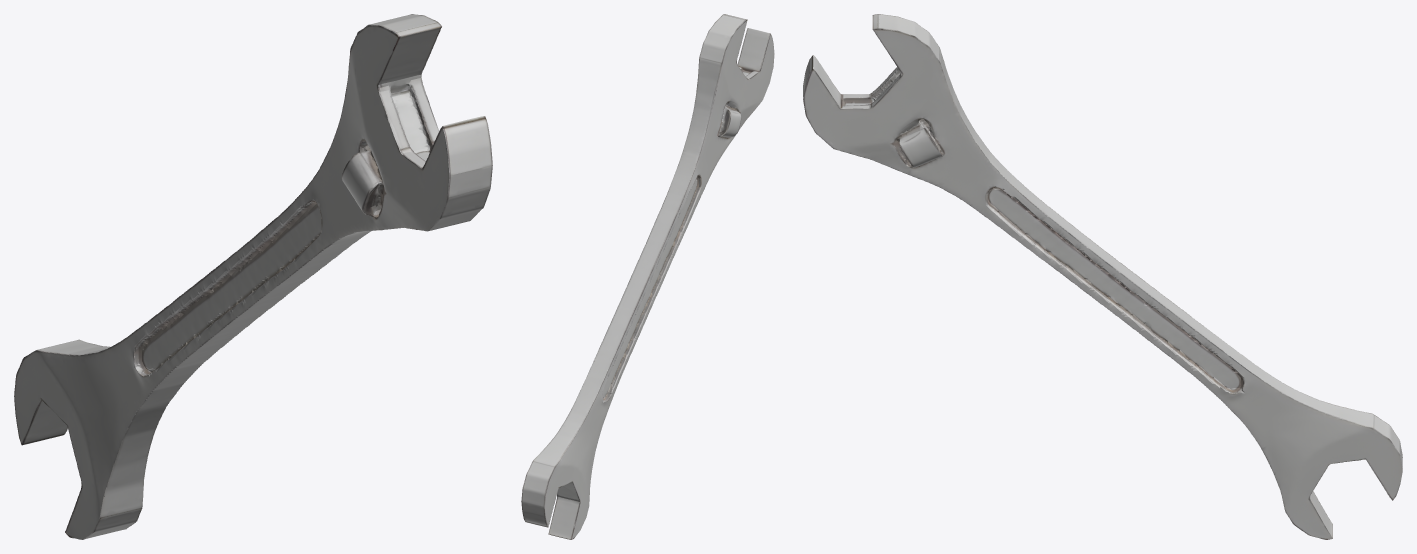
Rendered from Metal Wrench Tool_.glb.
3 renders of one model, left to right at view 1: azimuth 30°, elevation 25°; view 2: azimuth 150°, elevation 25°; view 3: azimuth 270°, elevation 25°, orthographic. The views are drawn at different scales.
Visible parts, largest first — view 1: model.056, model.1091, model.131, model.164, model.080, model.195, model.135, model.084, model, model.1678, model.208, model.059 (+3 smaller); view 2: model.056, model.121, model.1091, model.208, model.193, model.171, model.060, model.083; view 3: model.2287, model.1823, model.121, model.208, model.3347.
Part boxes in pixels (x1,y1,x2,y2): model.056: (14, 24, 449, 539); model.1091: (142, 202, 321, 371); model.131: (113, 227, 401, 467); model.164: (442, 116, 492, 199); model.080: (100, 457, 147, 517); model.195: (378, 27, 441, 84); model.135: (428, 189, 490, 231); model.084: (22, 400, 67, 445); model: (342, 154, 376, 212); model.1678: (392, 93, 427, 150); model.208: (369, 14, 441, 36); model.059: (84, 507, 141, 539); model.056: (544, 19, 774, 539); model.121: (523, 107, 710, 492); model.1091: (602, 179, 697, 397); model.208: (699, 14, 746, 64); model.193: (694, 58, 720, 110); model.171: (737, 28, 769, 70); model.060: (548, 498, 579, 539); model.083: (521, 487, 547, 527); model.2287: (803, 28, 1402, 539); model.1823: (989, 189, 1240, 388); model.121: (960, 106, 1399, 453); model.208: (872, 14, 939, 61); model.3347: (899, 129, 942, 167).
Size of the model in its own units: 0.1592 by 1.79 by 1.9.
1 material, 1 textured.
